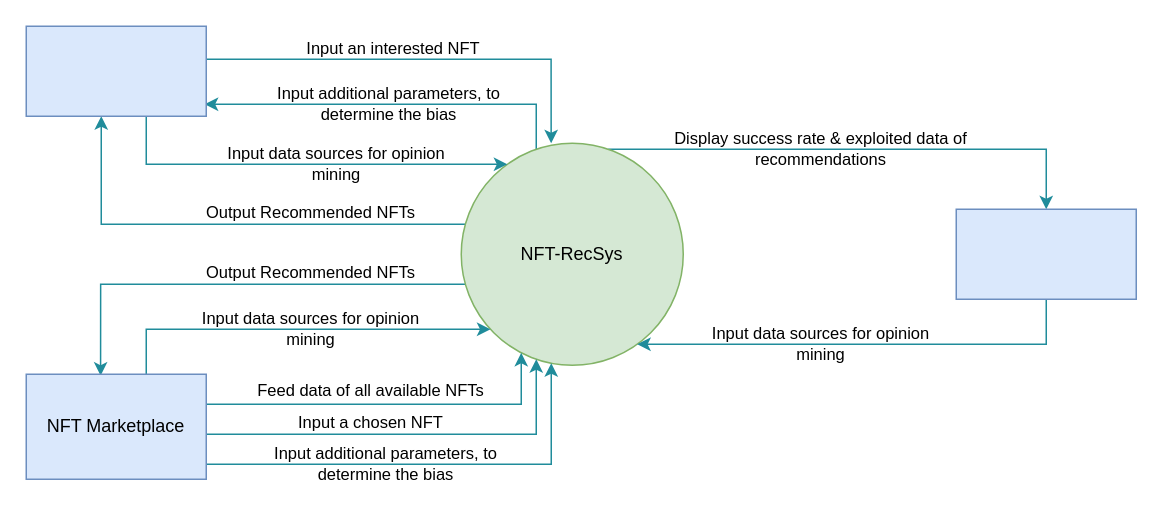
This 1163x513 diagram has some shape labels left out. Here are the shapes that lost their labels. From the top down, the centre of each, then its label:
At (x=115, y=70): "User".
At (x=1045, y=253): "Data Engineers".
